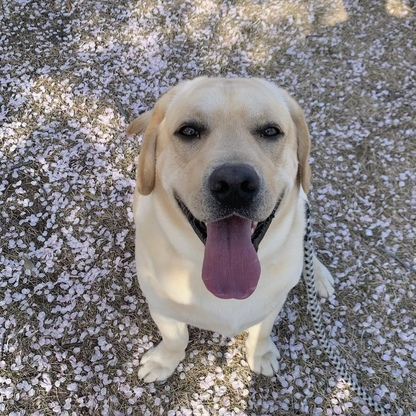labrado: (120, 74, 339, 387)
